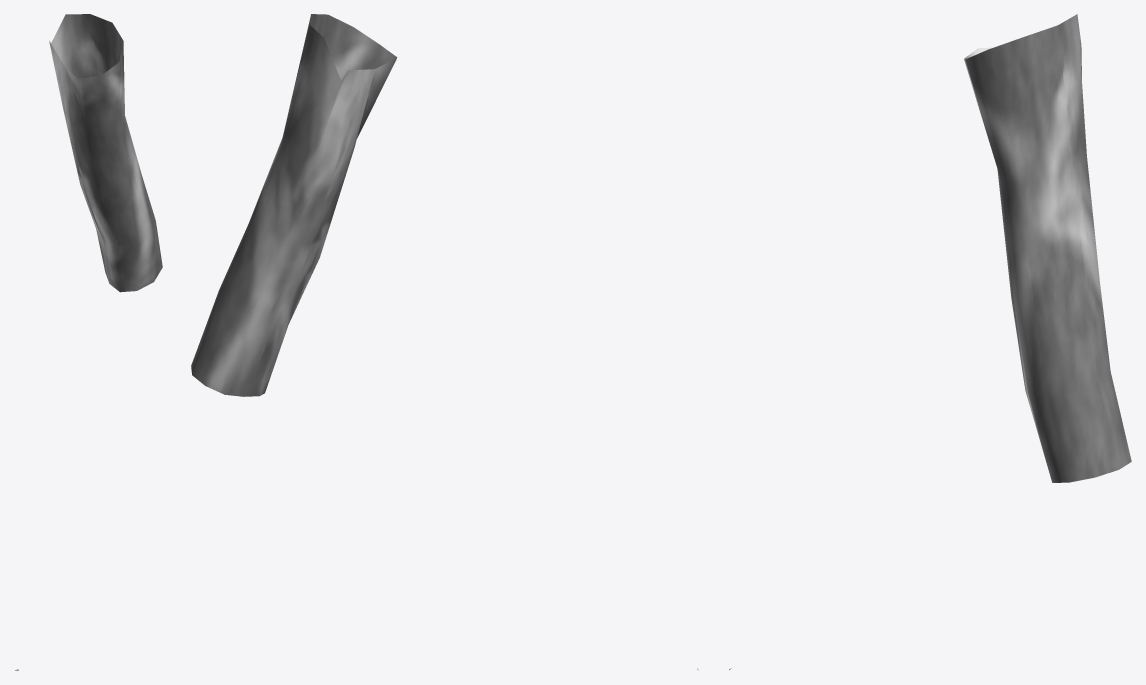
The model's file is lefthand3.obj.
3 views of the same model, side by side, from view 1: azimuth 30°, elevation 25°; view 2: azimuth 150°, elevation 25°; view 3: azimuth 270°, elevation 25° (orthographic). The views are drawn at different scales.
Visible parts, largest first — view 1: body; view 2: body; view 3: body.
Part boxes in pixels (bbox=[...]): body: bbox=[15, 14, 162, 670]; body: bbox=[191, 14, 698, 669]; body: bbox=[729, 14, 1131, 669].
Bounding box in the file's own units: 50.53 × 96.5 × 45.42.
1 material, 1 textured.
